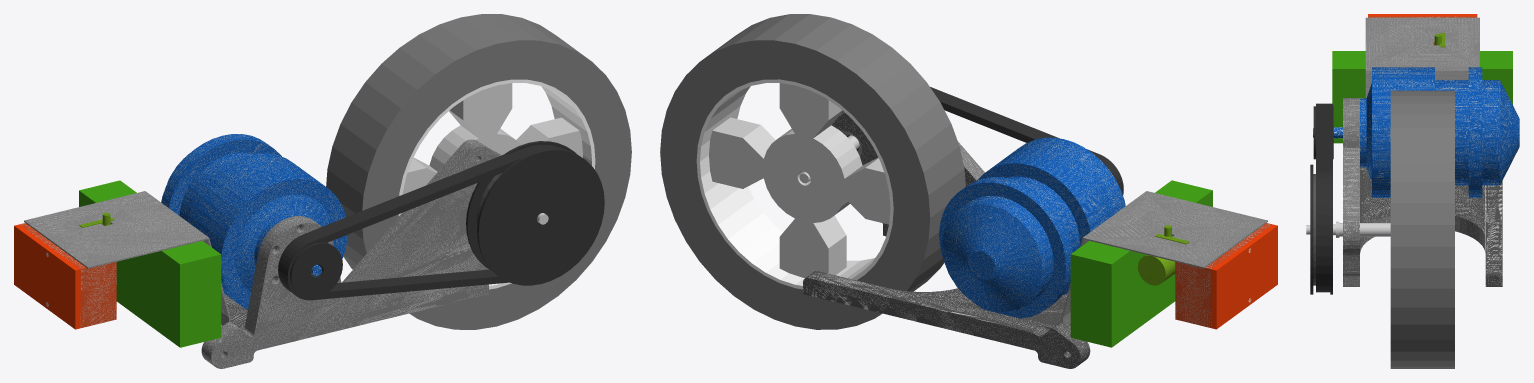
The model's file is core.dae.
3 renders of one model, left to right at view 1: azimuth 30°, elevation 25°; view 2: azimuth 150°, elevation 25°; view 3: azimuth 270°, elevation 25°, orthographic. The views are drawn at different scales.
Parts seen in each view (by area): view 1: Component, Component1, Component3 (×4), Component5, Component14, Component11, Component10 (×2), Component25, Component19, Component20, Component24 (×2), Component4 (+1 smaller); view 2: Component, Component3 (×4), Component25, Component1 (×2), Component14, Component24 (×2), Component11, Component19, Component20, Component10, Component21; view 3: Component, Component3 (×5), Component1 (×4), Component11, Component14, Component10, Component5, Component2, Component7, Component6, Component19, Component20.
Boxes of the visible parts, left/top/right/bottom form: Component: left=326, top=14, right=631, bottom=329; Component1: left=201, top=139, right=501, bottom=368; Component3 (×4): left=161, top=134, right=347, bottom=309; Component5: left=477, top=149, right=604, bottom=285; Component14: left=79, top=180, right=221, bottom=347; Component11: left=24, top=191, right=230, bottom=325; Component10 (×2): left=278, top=144, right=567, bottom=300; Component25: left=402, top=83, right=582, bottom=194; Component19: left=14, top=224, right=80, bottom=329; Component20: left=19, top=223, right=116, bottom=327; Component24 (×2): left=398, top=79, right=595, bottom=289; Component4: left=290, top=242, right=342, bottom=298; Component: left=660, top=14, right=965, bottom=329; Component3 (×4): left=939, top=137, right=1125, bottom=318; Component25: left=709, top=83, right=890, bottom=277; Component1 (×2): left=803, top=113, right=1090, bottom=368; Component14: left=1070, top=180, right=1212, bottom=347; Component24 (×2): left=696, top=79, right=893, bottom=289; Component11: left=1061, top=191, right=1267, bottom=325; Component19: left=1211, top=224, right=1277, bottom=329; Component20: left=1175, top=223, right=1271, bottom=327; Component10: left=930, top=87, right=1123, bottom=194; Component21: left=1137, top=254, right=1175, bottom=285; Component: left=1390, top=90, right=1454, bottom=368; Component3 (×5): left=1360, top=67, right=1519, bottom=197; Component1 (×4): left=1343, top=98, right=1502, bottom=286; Component11: left=1365, top=17, right=1479, bottom=98; Component14: left=1332, top=51, right=1512, bottom=143; Component10: left=1316, top=103, right=1332, bottom=292; Component5: left=1310, top=164, right=1313, bottom=294; Component2: left=1339, top=223, right=1390, bottom=236; Component7: left=1330, top=165, right=1332, bottom=294; Component6: left=1313, top=174, right=1315, bottom=285; Component19: left=1368, top=14, right=1477, bottom=16; Component20: left=1368, top=16, right=1477, bottom=45.
Bounding box in the file's own units: 33.76 × 12.26 × 16.02.
